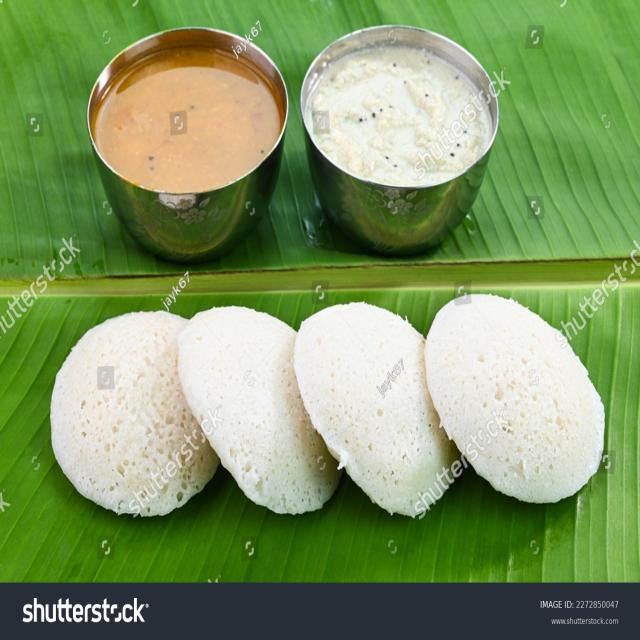IDLI: (425, 295, 605, 502), (295, 303, 458, 516), (50, 311, 219, 516), (178, 307, 342, 514)
